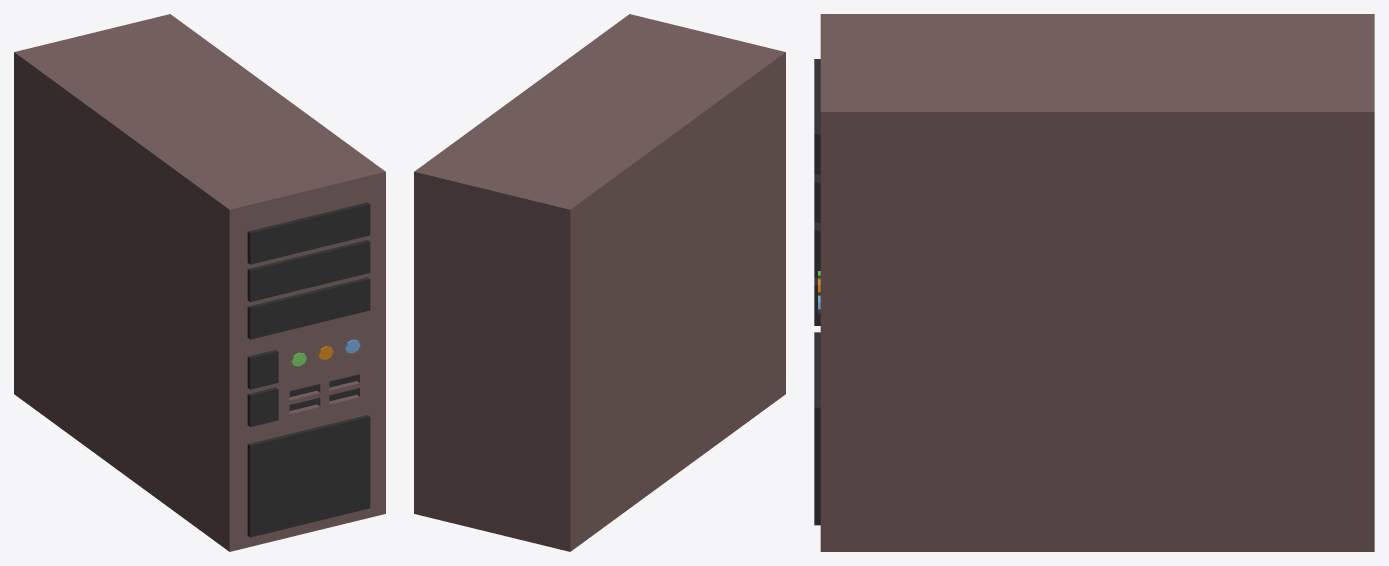
The model's file is Larger Case.fbx.
The picture shows the model from 3 angles, left to right: view 1: azimuth 30°, elevation 25°; view 2: azimuth 150°, elevation 25°; view 3: azimuth 270°, elevation 25°; orthographic projection. The views are drawn at different scales.
Visible parts, largest first — view 1: Larger Case; view 2: Larger Case; view 3: Larger Case.
Boxes of the visible parts, bbox=[...] form: Larger Case: bbox=[14, 14, 385, 551]; Larger Case: bbox=[414, 14, 785, 551]; Larger Case: bbox=[814, 14, 1374, 551].
Bounding box in the file's own units: 0.3455 × 0.7232 × 0.8352.
